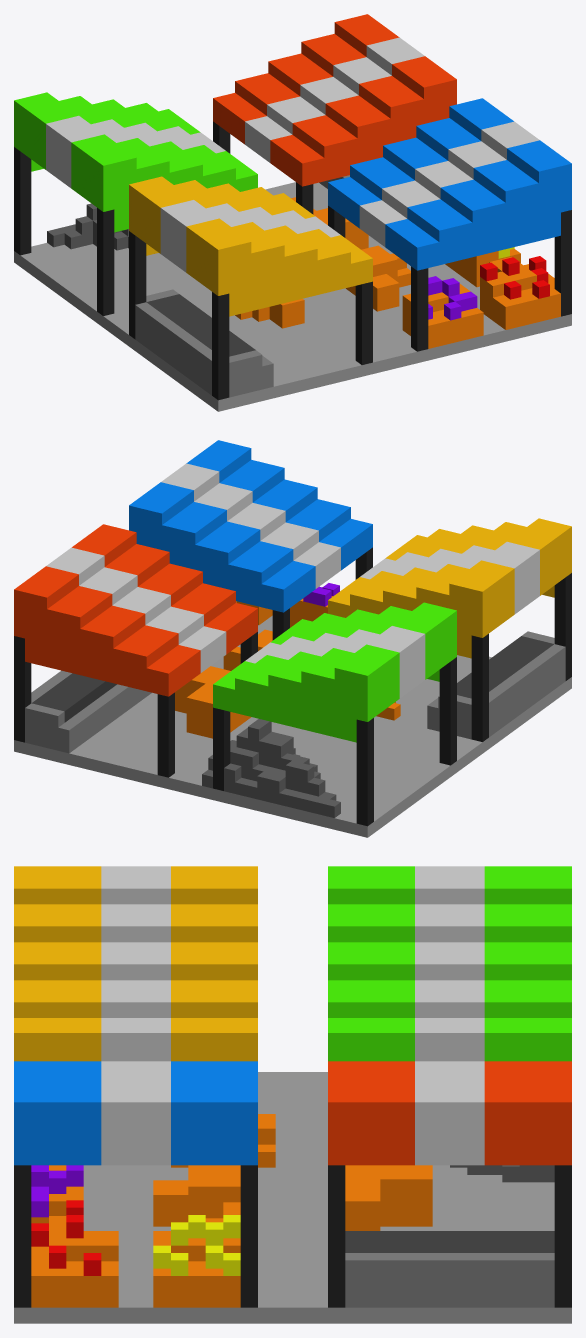
File: Night_Market_1.obj
The picture shows the model from 3 angles, top to bottom: view 1: azimuth 30°, elevation 25°; view 2: azimuth 150°, elevation 25°; view 3: azimuth 270°, elevation 25°; orthographic projection. The views are drawn at different scales.
Bounding box in the file's own units: 3.2 × 1.4 × 3.2.
1 material, 1 textured.
